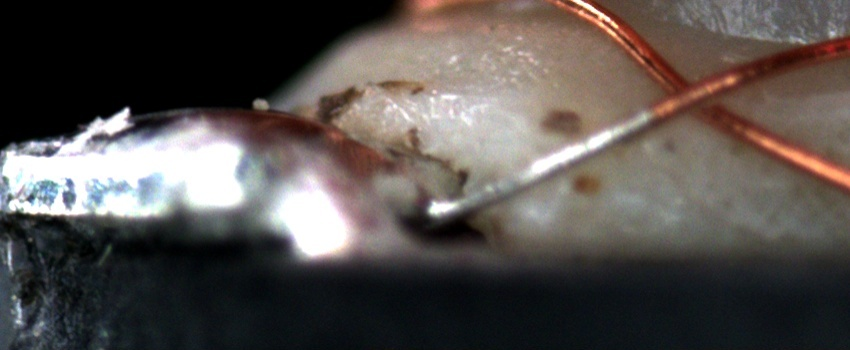CL: (648, 65, 739, 128)
TS: (426, 107, 654, 224)
